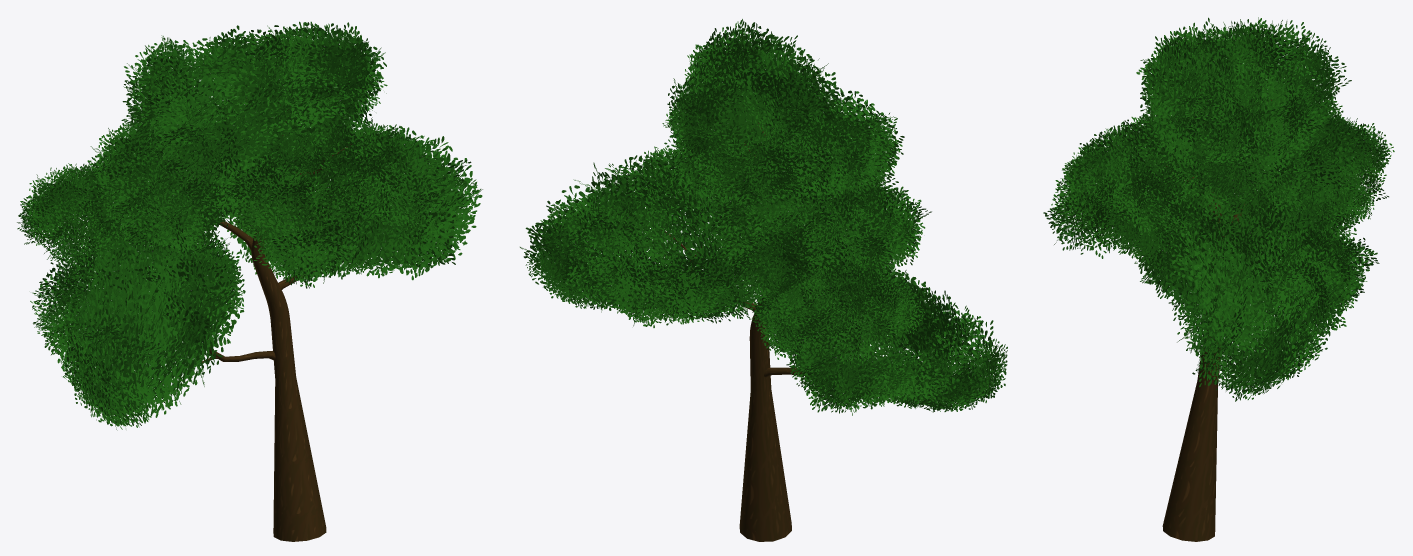
File: Cay 4-LOD 1.fbx
3 renders of one model, left to right at view 1: azimuth 30°, elevation 25°; view 2: azimuth 150°, elevation 25°; view 3: azimuth 270°, elevation 25°, orthographic.
Visible parts, largest first — view 1: LOD 0.004; view 2: LOD 0.004; view 3: LOD 0.004.
Boxes of the visible parts, x1,y1,x2,y2 form: LOD 0.004: (17, 21, 482, 541); LOD 0.004: (520, 19, 1007, 541); LOD 0.004: (1043, 17, 1394, 541).
Bounding box in the file's own units: 963 × 1049 × 670.
